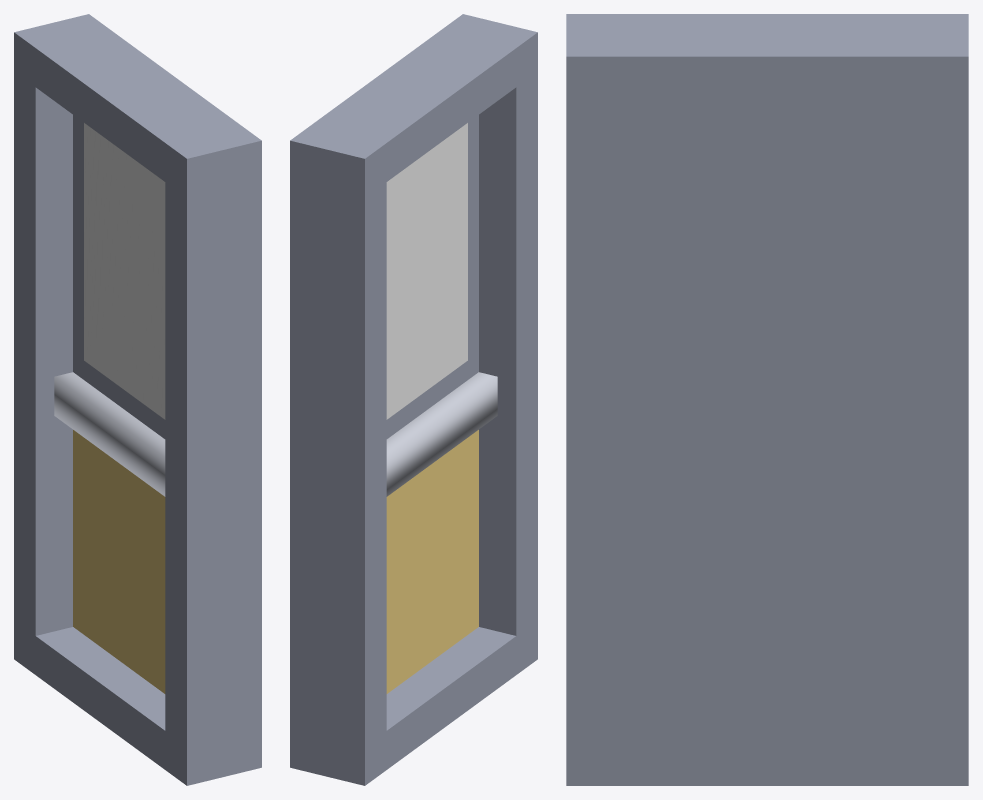
File: door.fbx
The picture shows the model from 3 angles, left to right: view 1: azimuth 30°, elevation 25°; view 2: azimuth 150°, elevation 25°; view 3: azimuth 270°, elevation 25°; orthographic projection. The views are drawn at different scales.
Parts seen in each view (by area): view 1: door; view 2: door; view 3: door.
Boxes of the visible parts, x1=… form: door: x1=14, y1=14, x2=261, y2=785; door: x1=290, y1=14, x2=537, y2=785; door: x1=566, y1=14, x2=968, y2=785.
Bounding box in the file's own units: 20 × 160 × 80.
